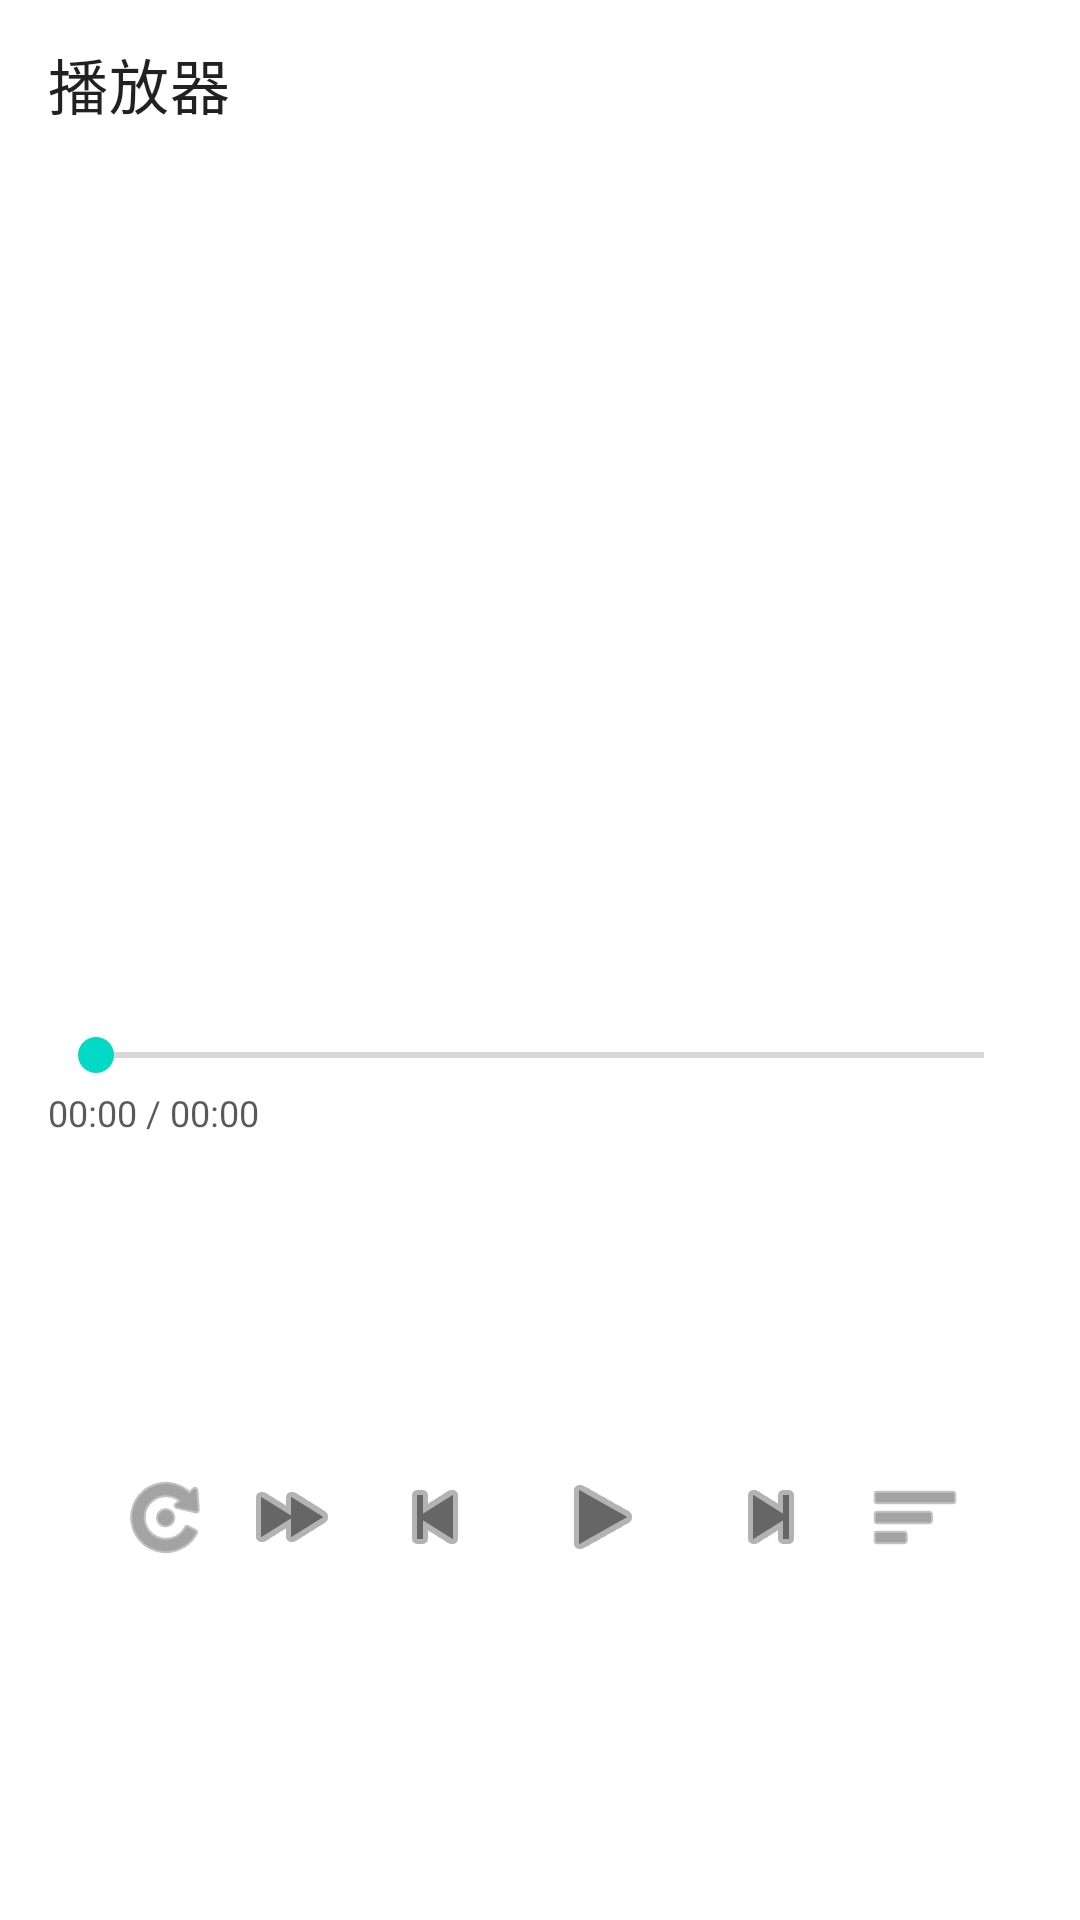

Point at icon controls on the screen. Image size 1080w x 1920h, points as [x,y].
上一首: [435,1517]
下一首: [771,1517]
倍速: [292,1517]
播放/暂停: [603,1517]
播放列表: [915,1517]
模式: [165,1517]
